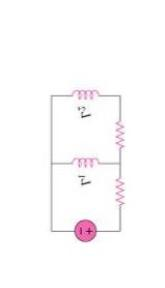resistor: (105, 170, 132, 212), (110, 112, 128, 147)
